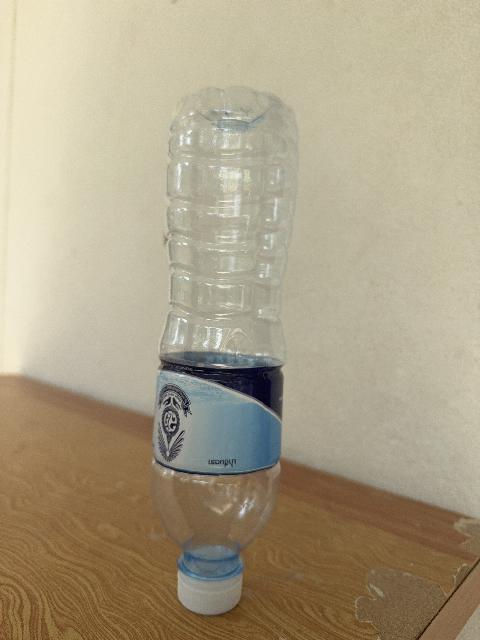bottle: (152, 87, 298, 614)
